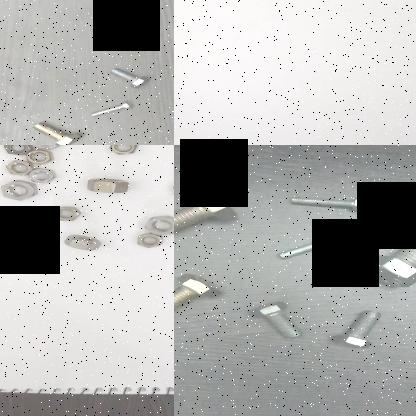Bolts: (174, 186, 242, 246), (352, 233, 416, 291), (248, 293, 312, 341), (174, 268, 225, 328), (274, 229, 354, 261), (330, 308, 388, 352), (292, 191, 370, 219), (31, 120, 87, 145), (99, 66, 156, 89), (86, 99, 138, 115)
NUTS: (62, 231, 107, 253), (0, 176, 38, 202), (84, 176, 133, 194), (143, 211, 174, 237), (130, 232, 171, 250), (28, 164, 60, 186), (3, 156, 36, 176), (51, 202, 84, 222), (24, 147, 57, 165), (107, 145, 139, 160), (0, 145, 33, 156), (25, 145, 67, 151)
